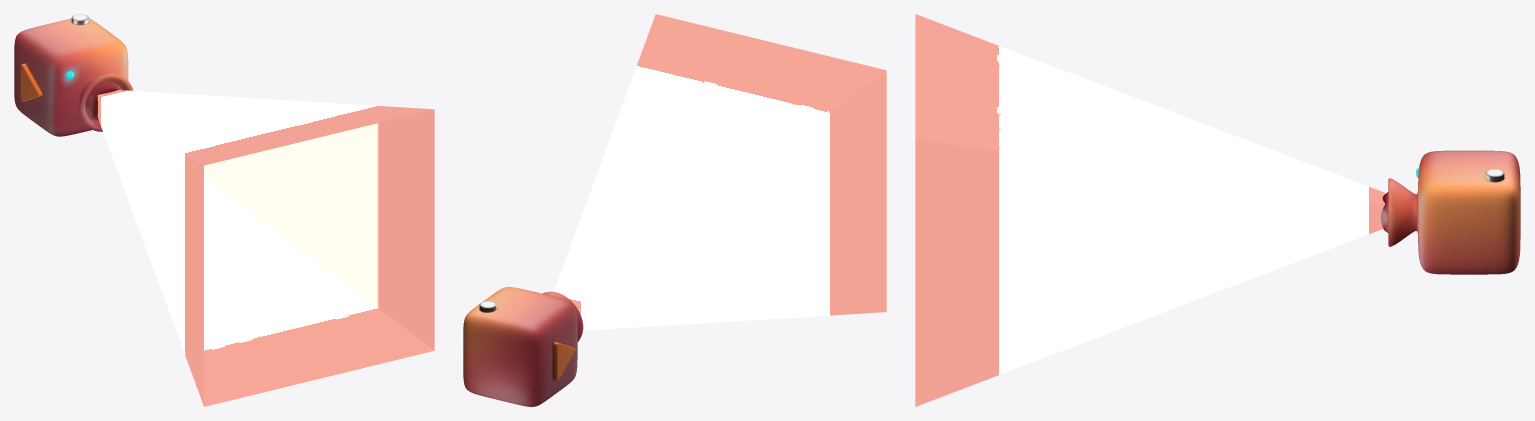
File: video-camera.glb
3 views of the same model, side by side, from view 1: azimuth 30°, elevation 25°; view 2: azimuth 150°, elevation 25°; view 3: azimuth 270°, elevation 25° (orthographic). The views are drawn at different scales.
Visible parts, largest first — view 1: Cube002_1, Cube002; view 2: Cube002_1, Cube002; view 3: Cube002_1, Cube002.
Boxes of the visible parts, box(x1,y1,x2,y2) form: Cube002_1: box(97, 90, 434, 406); Cube002: box(14, 14, 133, 136); Cube002_1: box(553, 14, 886, 330); Cube002: box(463, 287, 583, 406); Cube002_1: box(915, 14, 1384, 406); Cube002: box(1380, 150, 1520, 274).
Bounding box in the file's own units: 2.75 × 2.75 × 5.63.
Materials: 2 (2 with a texture image).
